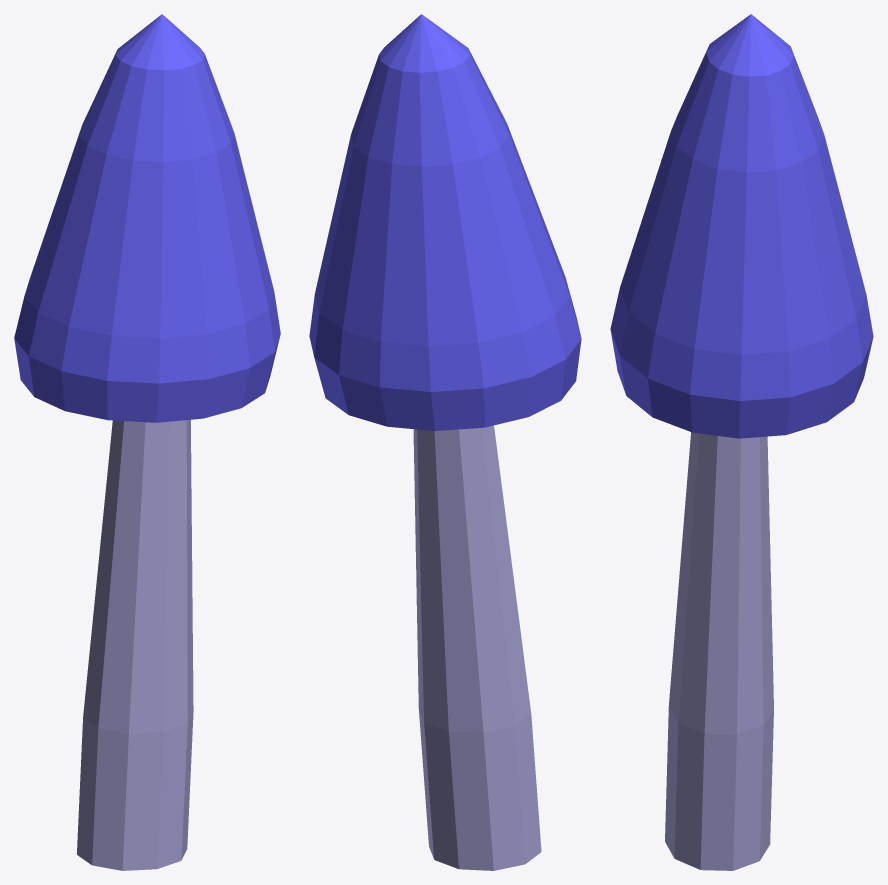
The model's file is Pilz_Lang.fbx.
The picture shows the model from 3 angles, left to right: view 1: azimuth 30°, elevation 25°; view 2: azimuth 150°, elevation 25°; view 3: azimuth 270°, elevation 25°; orthographic projection. The views are drawn at different scales.
Parts seen in each view (by area): view 1: PilzLang_2_Top, PilzLang_2_Bot; view 2: PilzLang_2_Top, PilzLang_2_Bot; view 3: PilzLang_2_Top, PilzLang_2_Bot.
Boxes of the visible parts, bbox=[...] form: PilzLang_2_Top: bbox=[14, 14, 280, 422]; PilzLang_2_Bot: bbox=[77, 419, 193, 870]; PilzLang_2_Top: bbox=[309, 14, 581, 430]; PilzLang_2_Bot: bbox=[413, 425, 541, 870]; PilzLang_2_Top: bbox=[610, 14, 873, 438]; PilzLang_2_Bot: bbox=[665, 432, 773, 870].
Size of the model in its own units: 8.96 by 29.72 by 8.28.
